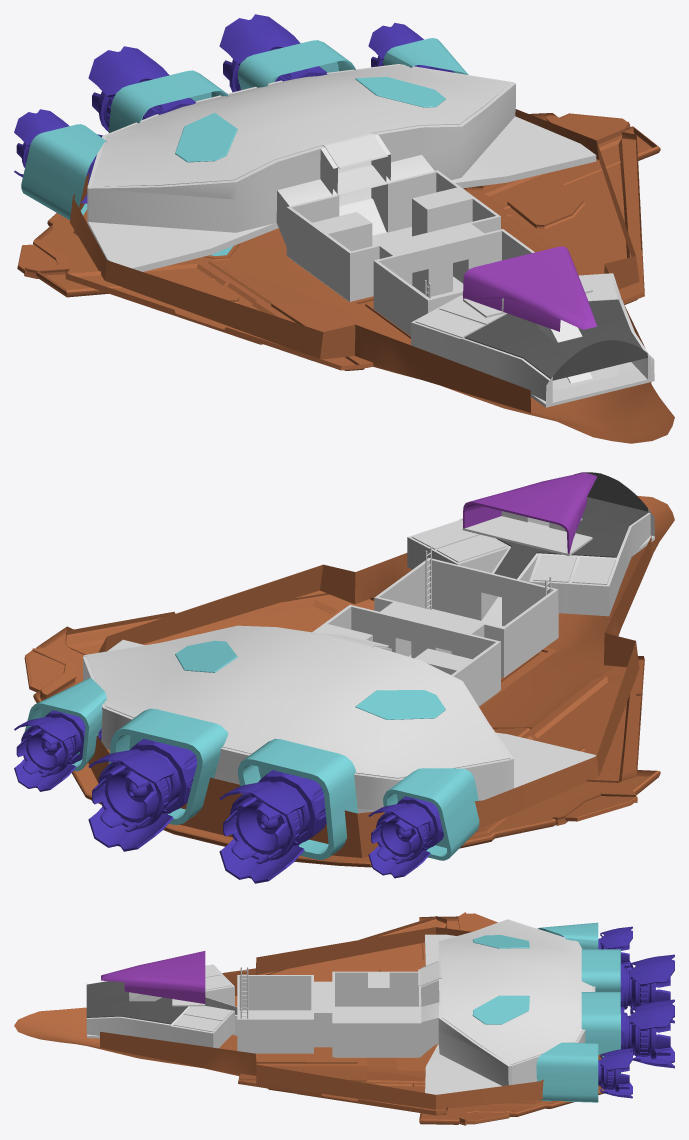
The model's file is Ship Internals.fbx.
The picture shows the model from 3 angles, top to bottom: view 1: azimuth 30°, elevation 25°; view 2: azimuth 150°, elevation 25°; view 3: azimuth 270°, elevation 25°; orthographic projection. The views are drawn at different scales.
Visible parts, largest first — view 1: ShipHull_Lower, EngineRoomCeiling, HangerRoom, EngineRoom, Box504, ShipHull_UpperDeckCorridor, Modular Room, EngineRoomUpperWall, CockpitCeiling, ShipHull_Guard4, Box573, ShipHull_Engine3 (+17 smaller); view 2: ShipHull_Lower, EngineRoomCeiling, Modular Room, ShipHull_Engine2, ShipHull_Engine3, HangerRoom, ShipHull_Guard3, Box573, ShipHull_Guard2, CockpitCeiling, ShipHull_Guard4, ShipHull_UpperDeckCorridor (+14 smaller); view 3: ShipHull_Lower, EngineRoomCeiling, HangerRoom, Modular Room, ShipHull_Guard1, ShipHull_UpperDeckCorridor, Box573, EngineRoom, ShipHull_Engine2, CockpitCeiling, Box504, ShipHull_Engine3 (+15 smaller).
Boxes of the visible parts, x1,y1,x2,y2 form: ShipHull_Lower: (17, 109, 674, 443); EngineRoomCeiling: (91, 65, 510, 186); HangerRoom: (286, 170, 500, 301); EngineRoom: (87, 64, 515, 246); Box504: (87, 116, 596, 271); ShipHull_UpperDeckCorridor: (463, 246, 597, 331); Modular Room: (373, 229, 534, 336); EngineRoomUpperWall: (87, 82, 515, 199); CockpitCeiling: (464, 299, 647, 380); ShipHull_Guard4: (21, 124, 106, 219); Box573: (411, 273, 654, 404); ShipHull_Engine3: (88, 46, 195, 137); ShipHull_Lower: (24, 495, 674, 867); EngineRoomCeiling: (86, 626, 509, 778); Modular Room: (374, 558, 558, 677); ShipHull_Engine2: (88, 738, 197, 851); ShipHull_Engine3: (219, 770, 326, 883); HangerRoom: (312, 604, 500, 706); ShipHull_Guard3: (238, 738, 357, 859); Box573: (407, 508, 654, 616); ShipHull_Guard2: (109, 708, 228, 824); CockpitCeiling: (462, 472, 648, 579); ShipHull_Guard4: (383, 768, 479, 860); ShipHull_UpperDeckCorridor: (463, 472, 596, 553); ShipHull_Lower: (14, 912, 604, 1125); EngineRoomCeiling: (442, 920, 592, 1064); HangerRoom: (332, 971, 421, 1057); Modular Room: (237, 975, 313, 1053); ShipHull_Guard1: (536, 1042, 598, 1102); ShipHull_UpperDeckCorridor: (101, 951, 205, 1003); Box573: (86, 964, 234, 1048); EngineRoom: (421, 920, 595, 1085); ShipHull_Engine2: (620, 999, 674, 1068); CockpitCeiling: (86, 981, 237, 1024); Box504: (425, 934, 536, 1094); ShipHull_Engine3: (620, 954, 674, 1023).
Bounding box in the file's own units: 3932 × 772 × 5290.
